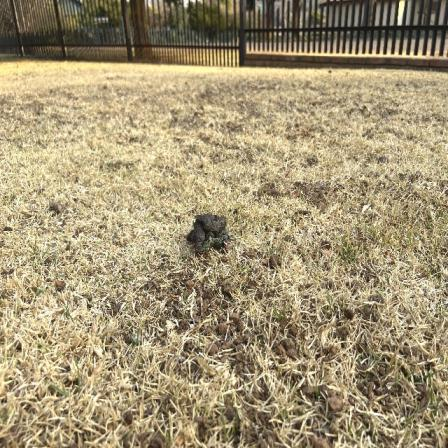dog-poop: (184, 211, 234, 257)
